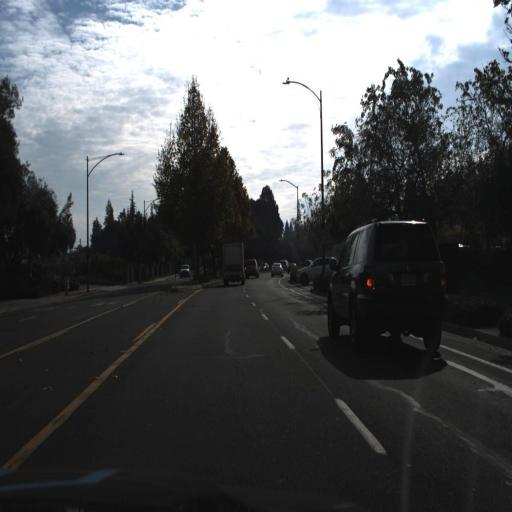car: (325, 220, 446, 351), (218, 235, 246, 289), (294, 254, 334, 288), (290, 253, 332, 285), (244, 255, 262, 282), (270, 260, 286, 282), (179, 260, 191, 281)
truck: (220, 235, 248, 286)
